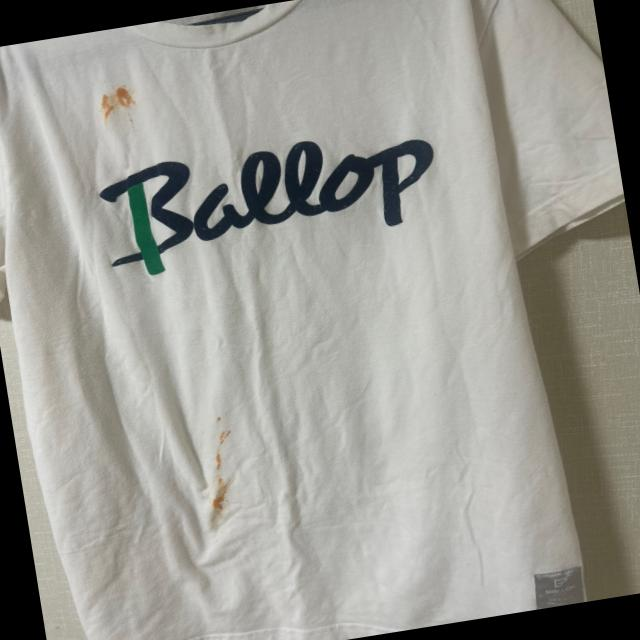stain: (201, 418, 251, 516), (84, 85, 138, 124), (212, 414, 228, 430)
